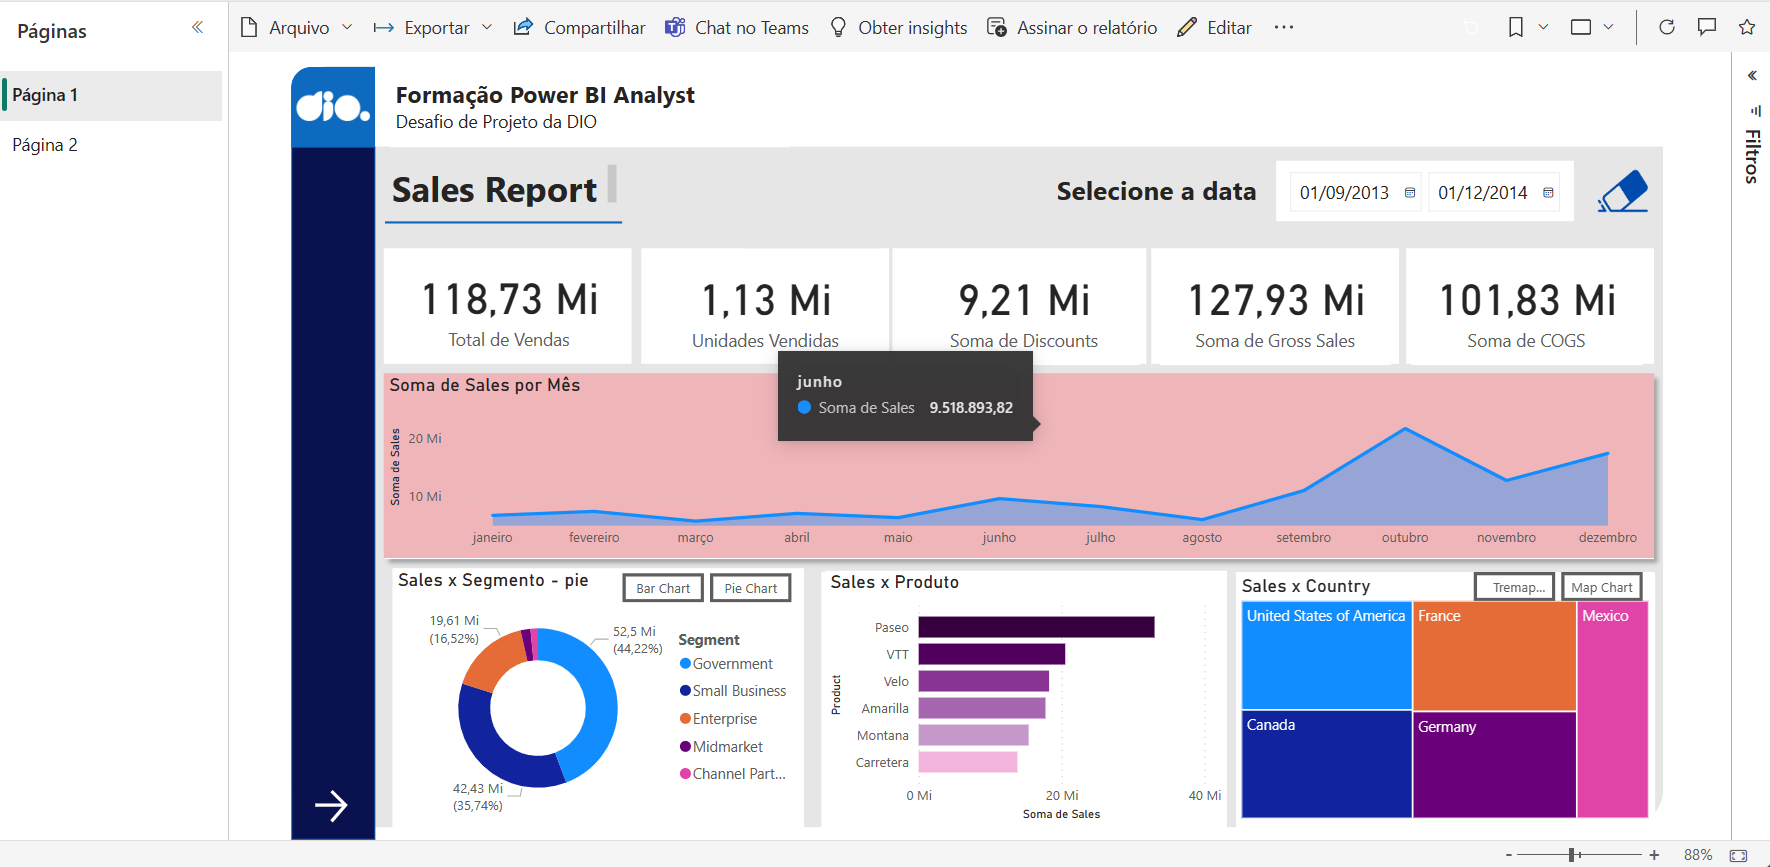

This screenshot's page, from the dashboard's own definition file:
{"tool":"powerbi","page":{"name":"Página 1","canvas":[1280,720],"ordinal":0},"visuals":[{"type":"shape","box":[10.5,12.8,1253.7,696],"z":0},{"type":"slicer","fields":{"Values":["financials.Date"]},"box":[909.4,99.8,272.2,55.6],"z":0,"group":"g2"},{"type":"shape","box":[95.5,139.7,216.7,32.8],"z":0,"group":"g5"},{"type":"shape","box":[95.4,179.2,226.5,105.7],"z":0,"group":"g1"},{"type":"donutChart","title":"Sales x Segmento - pie","fields":{"Y":["Sum(financials. Sales)"],"Category":["financials.Segment"]},"box":[102.6,471.8,376.3,236.6],"z":0,"group":"g4"},{"type":"map","title":"Sales x Country","fields":{"Category":["financials.Country"],"Size":["Sum(financials. Sales)"]},"box":[873.8,476,382,228.1],"z":0,"group":"g3"},{"type":"actionButton","title":"Botão - bar","box":[312.8,476.4,74.5,26.6],"z":500,"group":"g4"},{"type":"actionButton","title":"Botão -pie","box":[392.6,476.4,74.5,26.6],"z":750,"group":"g4"},{"type":"shape","box":[10.1,13.4,77.2,706.3],"z":1000},{"type":"textbox","box":[96.9,98.4,215.2,48.5],"z":1000,"group":"g5"},{"type":"textbox","box":[704.1,105.5,199.6,45.6],"z":1000,"group":"g2"},{"type":"shape","box":[330.1,179.2,226.5,105.7],"z":1000,"group":"g1"},{"type":"treemap","title":"Sales x Country","fields":{"Group":["financials.Country"],"Values":["Sum(financials. Sales)"]},"box":[873.8,477.5,382,228.1],"z":1000,"group":"g3"},{"type":"actionButton","title":"Botão - map","box":[1170.8,475.2,74.5,26.6],"z":1250,"group":"g3"},{"type":"actionButton","title":"Botão - tremap","box":[1090.9,475.2,74.5,26.6],"z":1500,"group":"g3"},{"type":"shape","box":[10.1,13.4,77.2,73.8],"z":2000},{"type":"actionButton","box":[1195.9,104.1,59.9,51.3],"z":2000,"group":"g2"},{"type":"shape","box":[559.7,179,232.4,105.7],"z":2000,"group":"g1"},{"type":"image","title":"logo_dio","box":[10.1,18.5,77.2,62.1],"z":3000},{"type":"image","title":"clean","box":[1195.9,99.8,59.9,55.6],"z":3000,"group":"g2"},{"type":"shape","box":[796.5,179.2,226.5,105.7],"z":3000,"group":"g1"},{"type":"shape","box":[86.9,12.8,1193.1,74.1],"z":4000},{"type":"shape","box":[1029.7,179.2,226.5,105.7],"z":4000,"group":"g1"},{"type":"textbox","box":[100.7,18.5,365.7,68.8],"z":5000},{"type":"card","fields":{"Values":["Sum(financials. Sales)"]},"box":[94.9,179,228.9,105.7],"z":5000,"group":"g1"},{"type":"group","id":"g1","title":"Cartões","box":[94.9,179,1161.3,106.1],"z":6000},{"type":"card","fields":{"Values":["Sum(financials.Units Sold)"]},"box":[337.8,179.6,211,105.5],"z":6000,"group":"g1"},{"type":"card","fields":{"Values":["Sum(financials.Gross Sales)"]},"box":[803.9,179.6,211,105.5],"z":7000,"group":"g1"},{"type":"shape","box":[86.9,285.1,1177.4,186.7],"z":7000},{"type":"card","fields":{"Values":["Sum(financials.Discounts)"]},"box":[574.4,179.6,211,105.5],"z":8000,"group":"g1"},{"type":"shape","box":[494.6,474.7,370.6,233.8],"z":8000},{"type":"card","fields":{"Values":["Sum(financials.COGS)"]},"box":[1033.4,179.6,211,105.5],"z":9000,"group":"g1"},{"type":"shape","box":[873.8,474.7,382,233.8],"z":9000},{"type":"areaChart","fields":{"Category":["financials.Date.Variation.Hierarquia de datas.Mês"],"Y":["Sum(financials. Sales)"]},"box":[95.3,294,1160.8,168.5],"z":10000},{"type":"clusteredBarChart","title":"Sales x Produto","fields":{"Y":["Sum(financials. Sales)"],"Category":["financials.Product"]},"box":[498.3,474.5,366.9,233.8],"z":11000},{"type":"group","id":"g2","title":"Filtro por data","box":[704.1,99.8,551.6,55.6],"z":12000},{"type":"group","id":"g3","title":"Sales x país","box":[873.8,475.2,382,230.3],"z":13000},{"type":"group","id":"g4","title":"Sales x Segmento","box":[96,471.8,382.9,236.8],"z":14000},{"type":"group","id":"g5","title":"Title report","box":[95.5,98.4,216.7,74.1],"z":15000},{"type":"actionButton","box":[25.9,669,48.8,39.6],"z":16000}]}

Visuals, with their boxes on the page's 1280x720 design canvas (x1, y1, x2, y2). These are canvas units, not pixel positions in the 1770x867 screenshot, which may show the page scaled, cropped or inside an application window:
shape: 10 13 1264 709
slicer - financials.Date: 909 100 1182 155
shape: 96 140 312 172
shape: 95 179 322 285
"Sales x Segmento - pie" donutChart: 103 472 479 708
"Sales x Country" map: 874 476 1256 704
"Botão - bar" actionButton: 313 476 387 503
"Botão -pie" actionButton: 393 476 467 503
shape: 10 13 87 720
textbox: 97 98 312 147
textbox: 704 106 904 151
shape: 330 179 557 285
"Sales x Country" treemap: 874 478 1256 706
"Botão - map" actionButton: 1171 475 1245 502
"Botão - tremap" actionButton: 1091 475 1165 502
shape: 10 13 87 87
actionButton: 1196 104 1256 155
shape: 560 179 792 285
"logo_dio" image: 10 18 87 81
"clean" image: 1196 100 1256 155
shape: 796 179 1023 285
shape: 87 13 1280 87
shape: 1030 179 1256 285
textbox: 101 18 466 87
card - Sum(financials. Sales): 95 179 324 285
"Cartões" group: 95 179 1256 285
card - Sum(financials.Units Sold): 338 180 549 285
card - Sum(financials.Gross Sales): 804 180 1015 285
shape: 87 285 1264 472
card - Sum(financials.Discounts): 574 180 785 285
shape: 495 475 865 708
card - Sum(financials.COGS): 1033 180 1244 285
shape: 874 475 1256 708
areaChart - financials.Date.Variation.Hierarquia de datas.Mês x Sum(financials. Sales): 95 294 1256 462
"Sales x Produto" clusteredBarChart: 498 474 865 708
"Filtro por data" group: 704 100 1256 155
"Sales x país" group: 874 475 1256 706
"Sales x Segmento" group: 96 472 479 709
"Title report" group: 96 98 312 172
actionButton: 26 669 75 709
